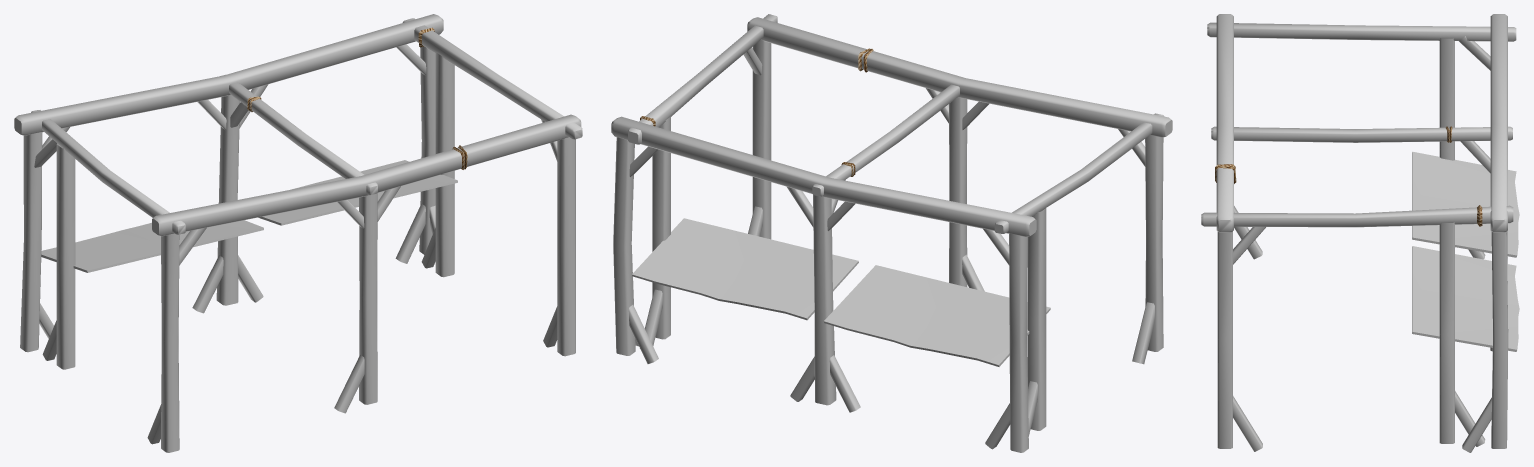
The model's file is booth03_LOD02.fbx.
3 renders of one model, left to right at view 1: azimuth 30°, elevation 25°; view 2: azimuth 150°, elevation 25°; view 3: azimuth 270°, elevation 25°, orthographic.
Parts seen in each view (by area): view 1: Mesh Object; view 2: Mesh Object; view 3: Mesh Object.
Boxes of the visible parts, x1=… form: Mesh Object: x1=14, y1=14, x2=582, y2=452; Mesh Object: x1=611, y1=14, x2=1172, y2=452; Mesh Object: x1=1201, y1=14, x2=1519, y2=452.
Size of the model in its own units: 4.4 by 2.39 by 2.88.
